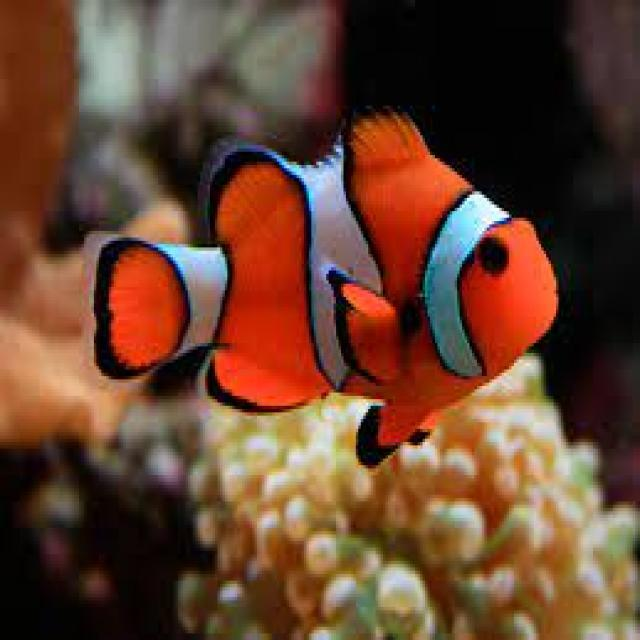ClownFish: (92, 98, 564, 465)
